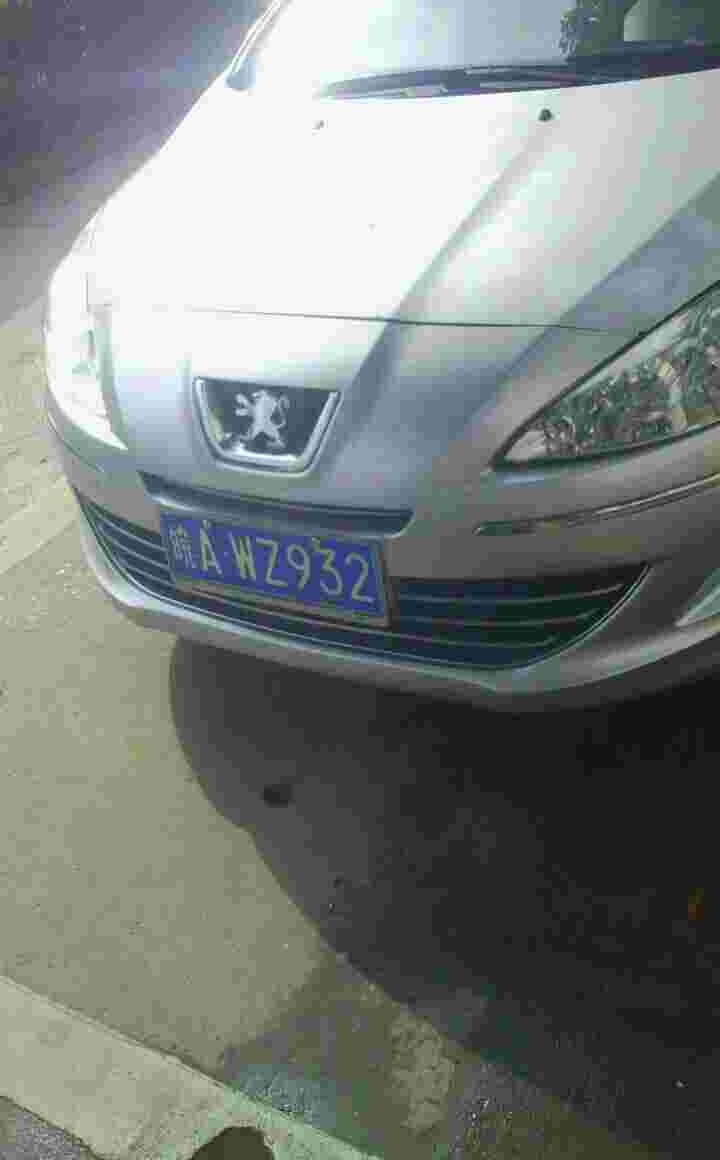license_plate: (152, 514, 398, 608)
